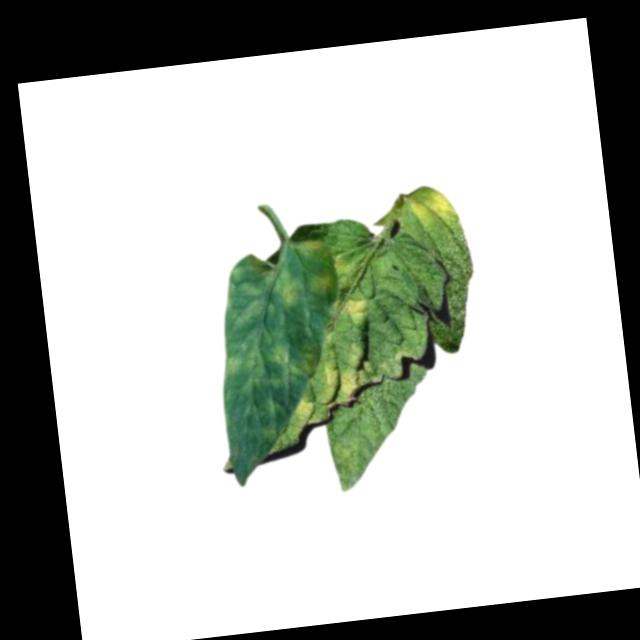Leaf_Mold: (221, 336, 322, 398), (221, 252, 269, 330), (322, 344, 373, 404), (408, 187, 458, 232), (340, 292, 380, 332), (273, 264, 307, 310), (302, 231, 332, 255), (294, 394, 318, 423), (313, 269, 337, 297)
